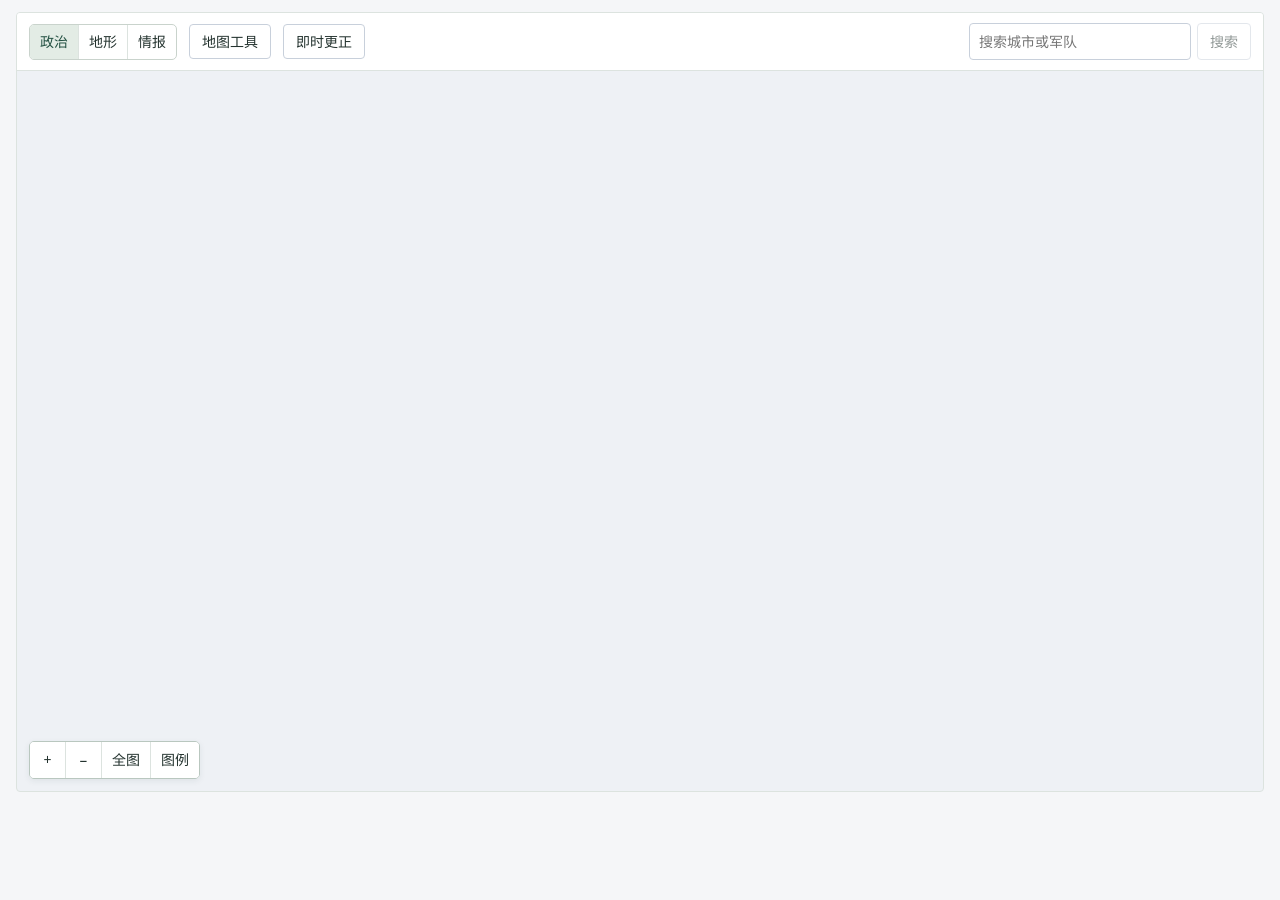
Scenario: shows an empty search result and dismisses it with Escape
The image size is (1280, 900).
Type "不存在" into the search field at (1080, 42), box x1=969 y1=23 x2=1191 y2=60
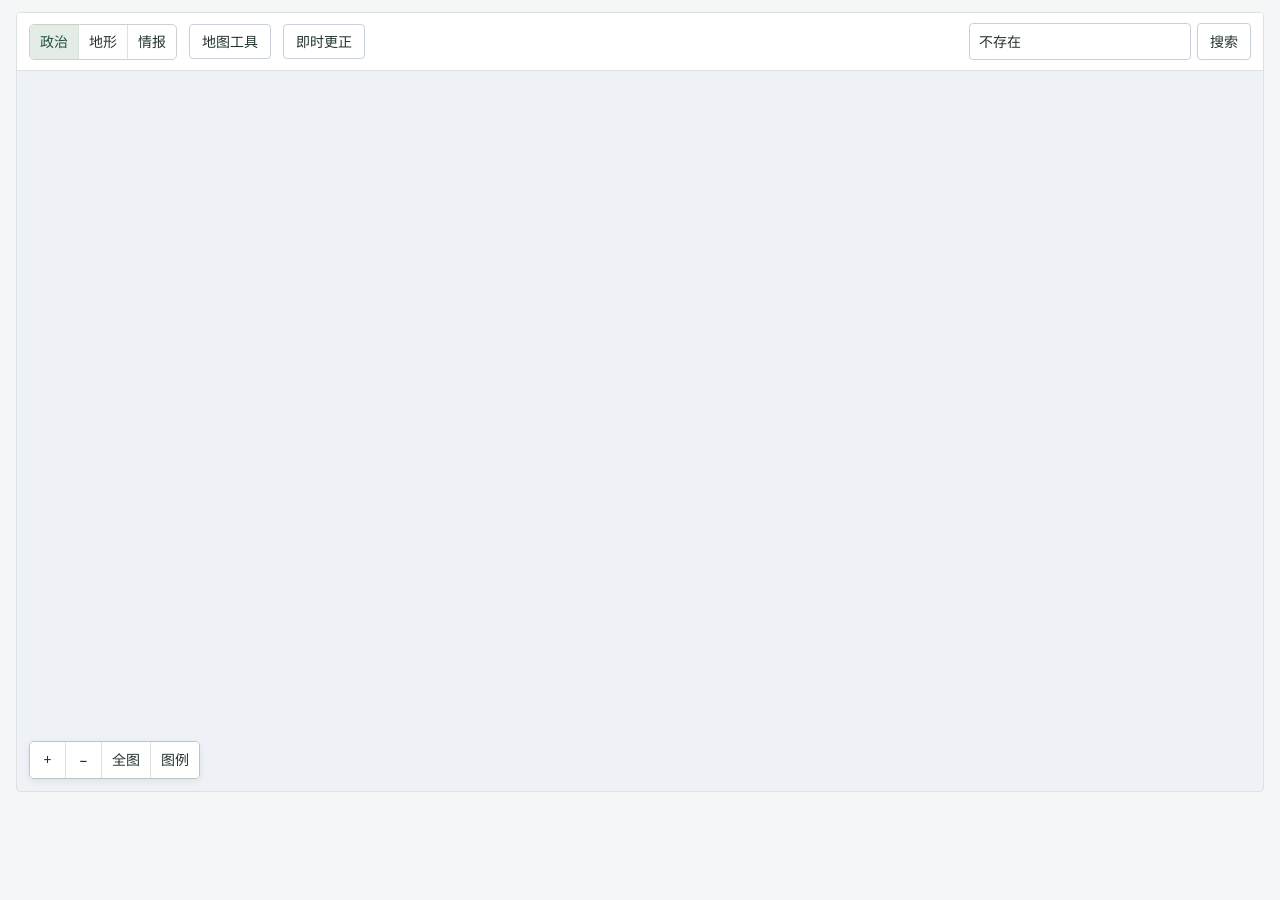
Click the button "搜索" at (1224, 42), box x1=1197 y1=23 x2=1251 y2=60
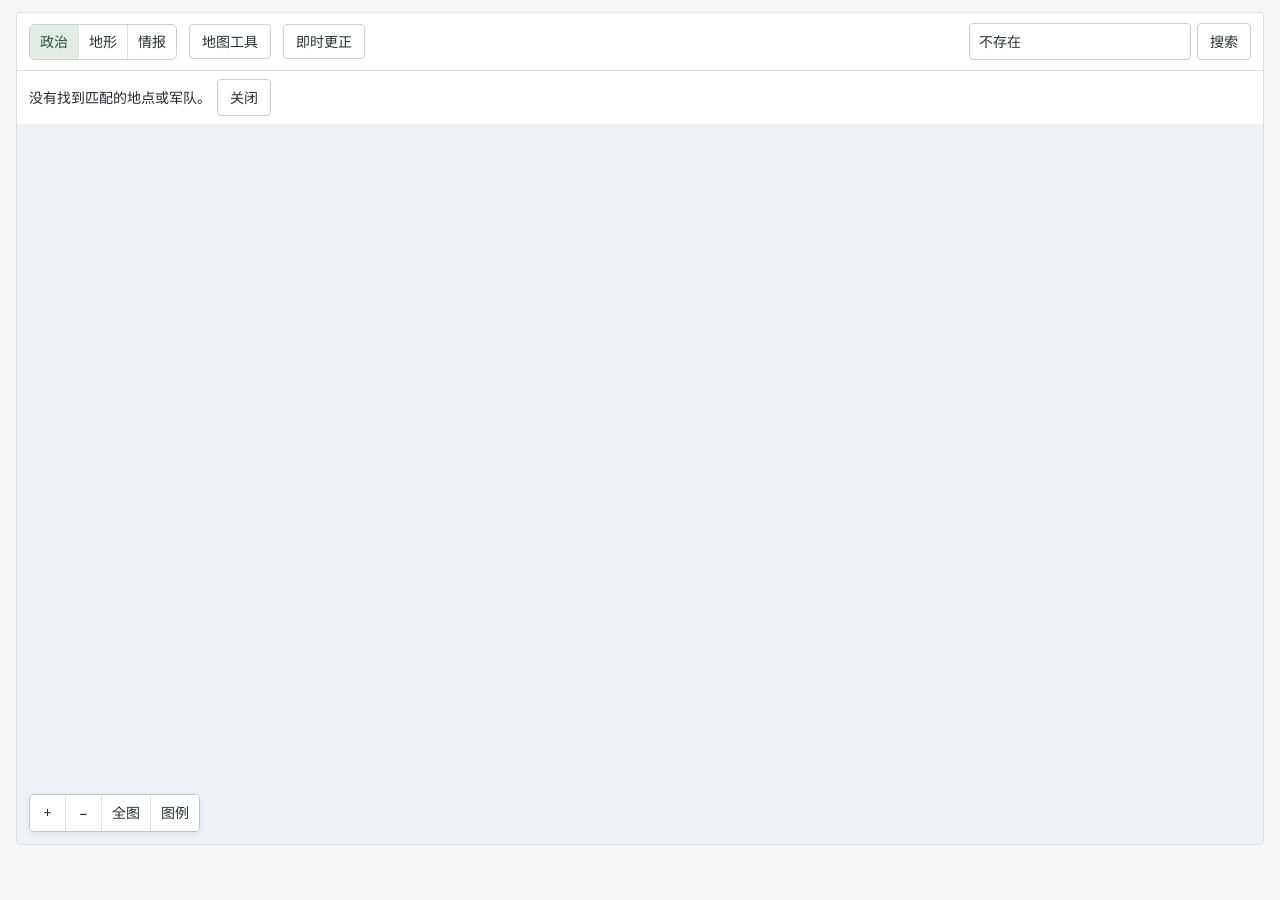
Now the text "没有找到匹配的地点或军队。" is shown, box x1=29 y1=87 x2=211 y2=108
Press Escape
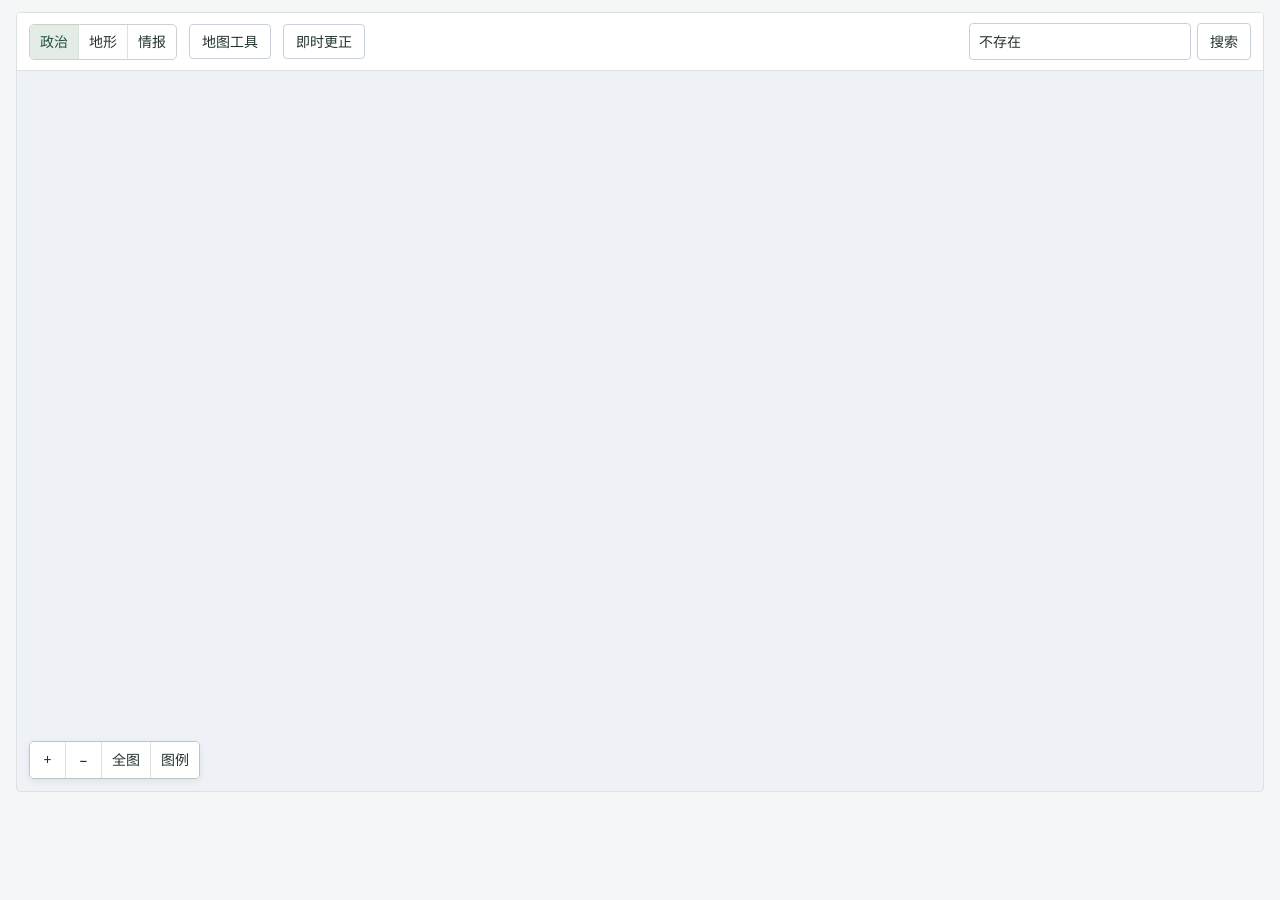
Now the text "没有找到匹配的地点或军队。" is gone
